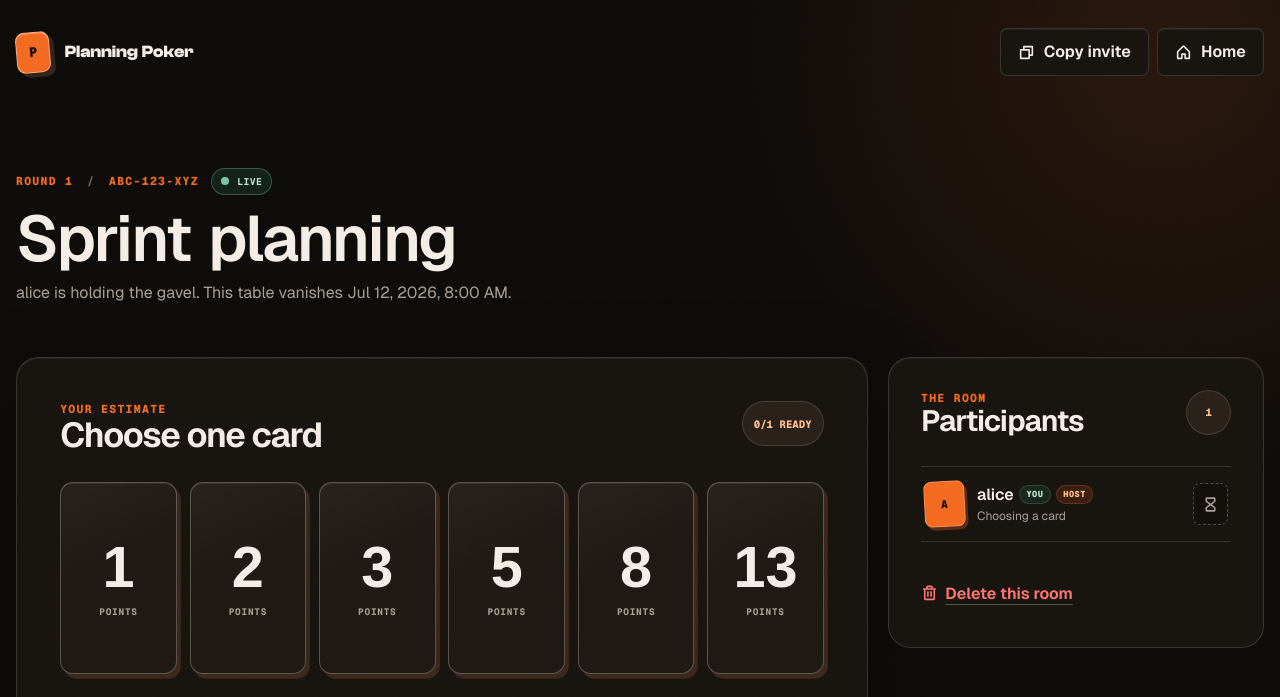
planning-poker workflows › uses the server response as the authoritative vote state
Click the button "5 points" at point(507, 578), box x1=448 y1=482 x2=565 y2=674
(page scrolled)
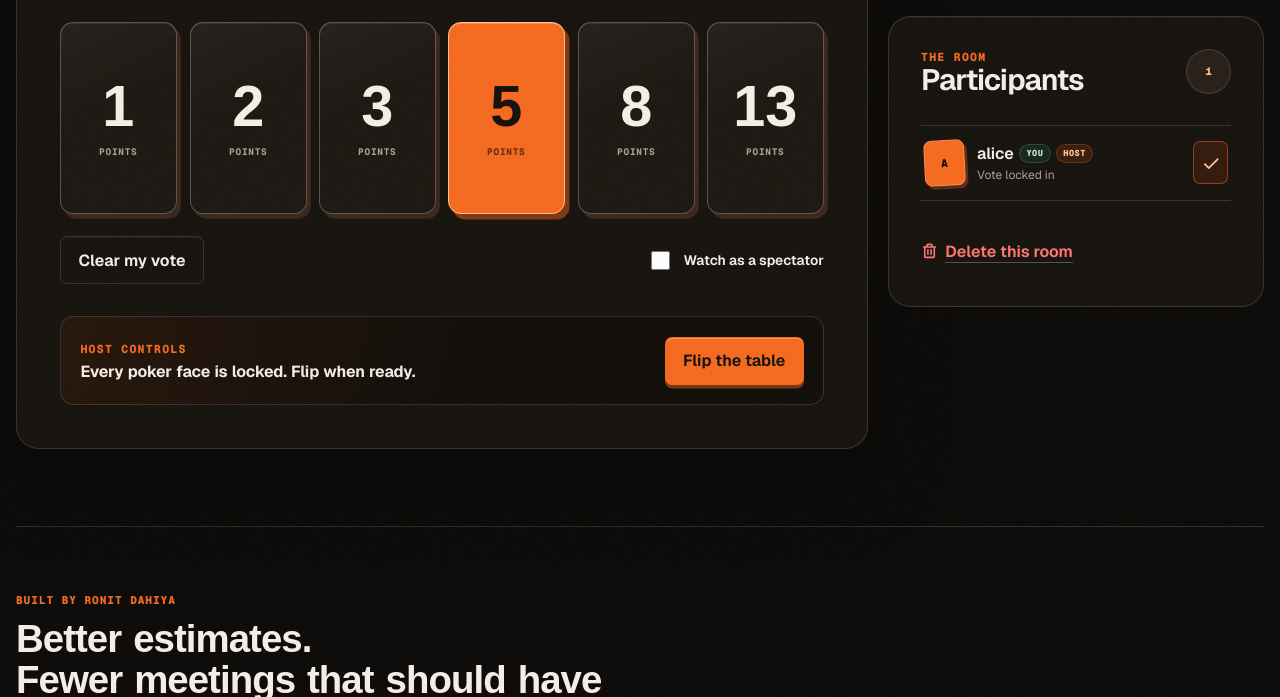
Expected: the button "Flip the table" is enabled, x1=665 y1=336 x2=804 y2=384
